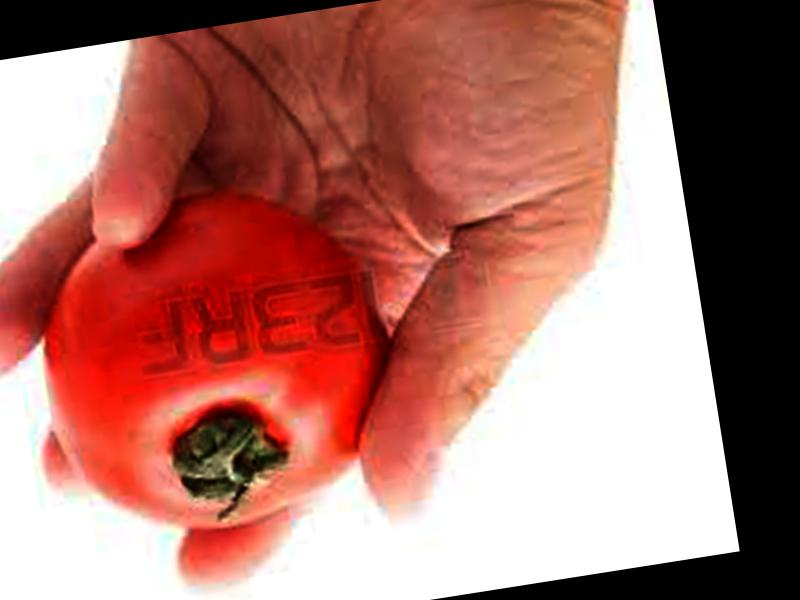Tomato: (20, 171, 409, 551)
